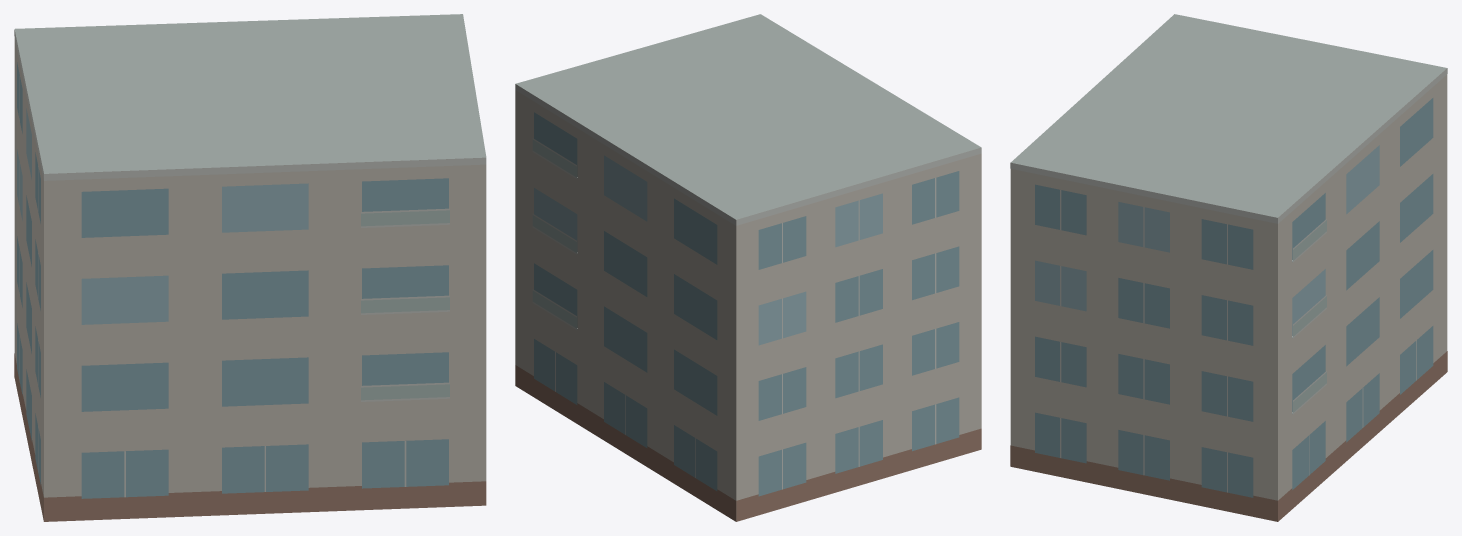
File: survey-upis-32711797.glb
3 views of the same model, side by side, from view 1: azimuth 30°, elevation 25°; view 2: azimuth 150°, elevation 25°; view 3: azimuth 270°, elevation 25° (orthographic). The views are drawn at different scales.
Parts seen in each view (by area): view 1: survey-upis-32711797.tmp; view 2: survey-upis-32711797.tmp; view 3: survey-upis-32711797.tmp.
Part boxes in pixels (x1,y1,x2,y2): survey-upis-32711797.tmp: (14, 14, 486, 521); survey-upis-32711797.tmp: (515, 14, 981, 521); survey-upis-32711797.tmp: (1010, 14, 1447, 521).
Bounding box in the file's own units: 17.56 × 12.2 × 15.9.
